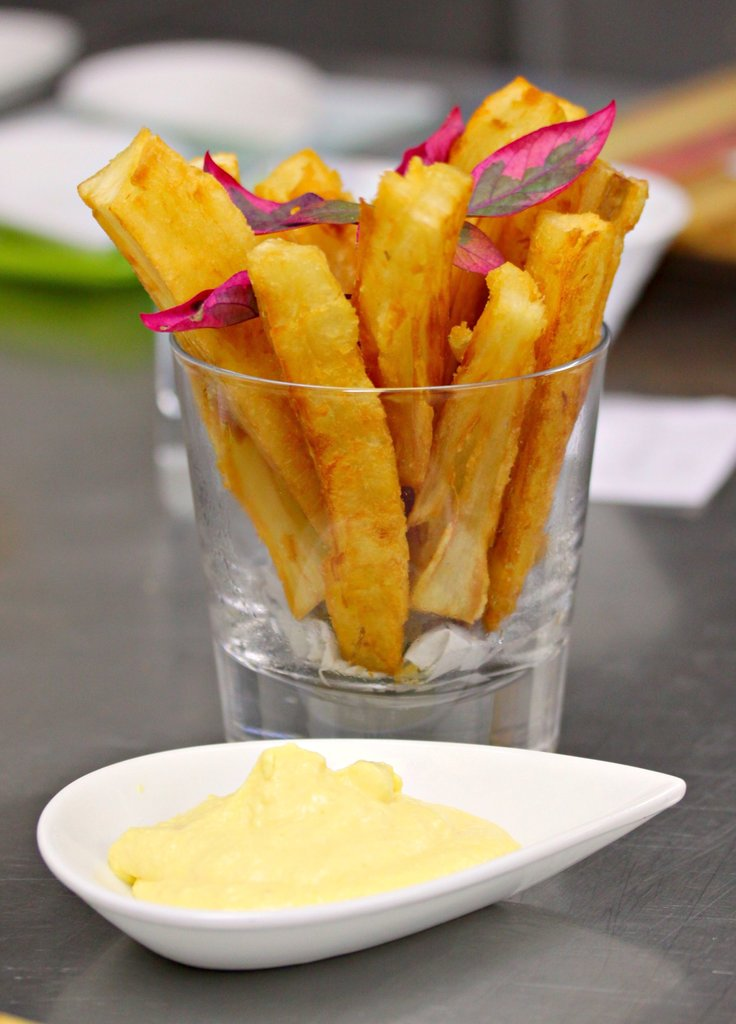French fries: (71, 61, 664, 680)
